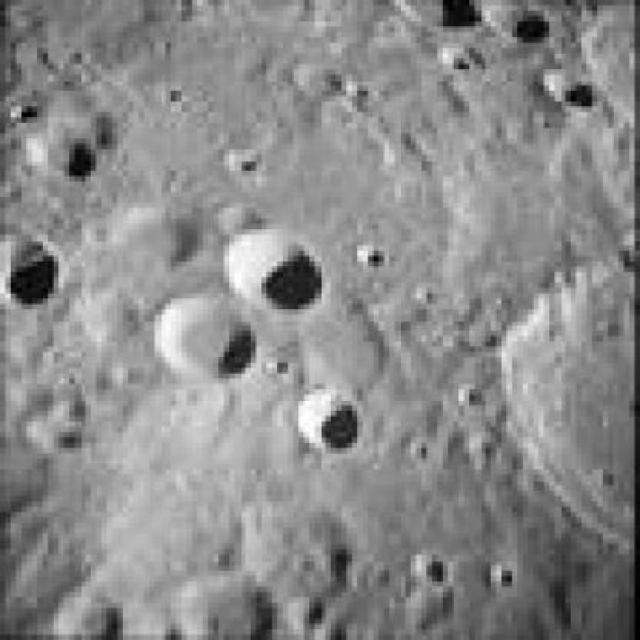crater: (226, 223, 322, 315), (159, 300, 253, 375), (2, 226, 63, 309), (300, 388, 362, 452), (42, 126, 106, 177), (483, 3, 555, 40), (398, 0, 482, 29), (545, 72, 600, 113)
